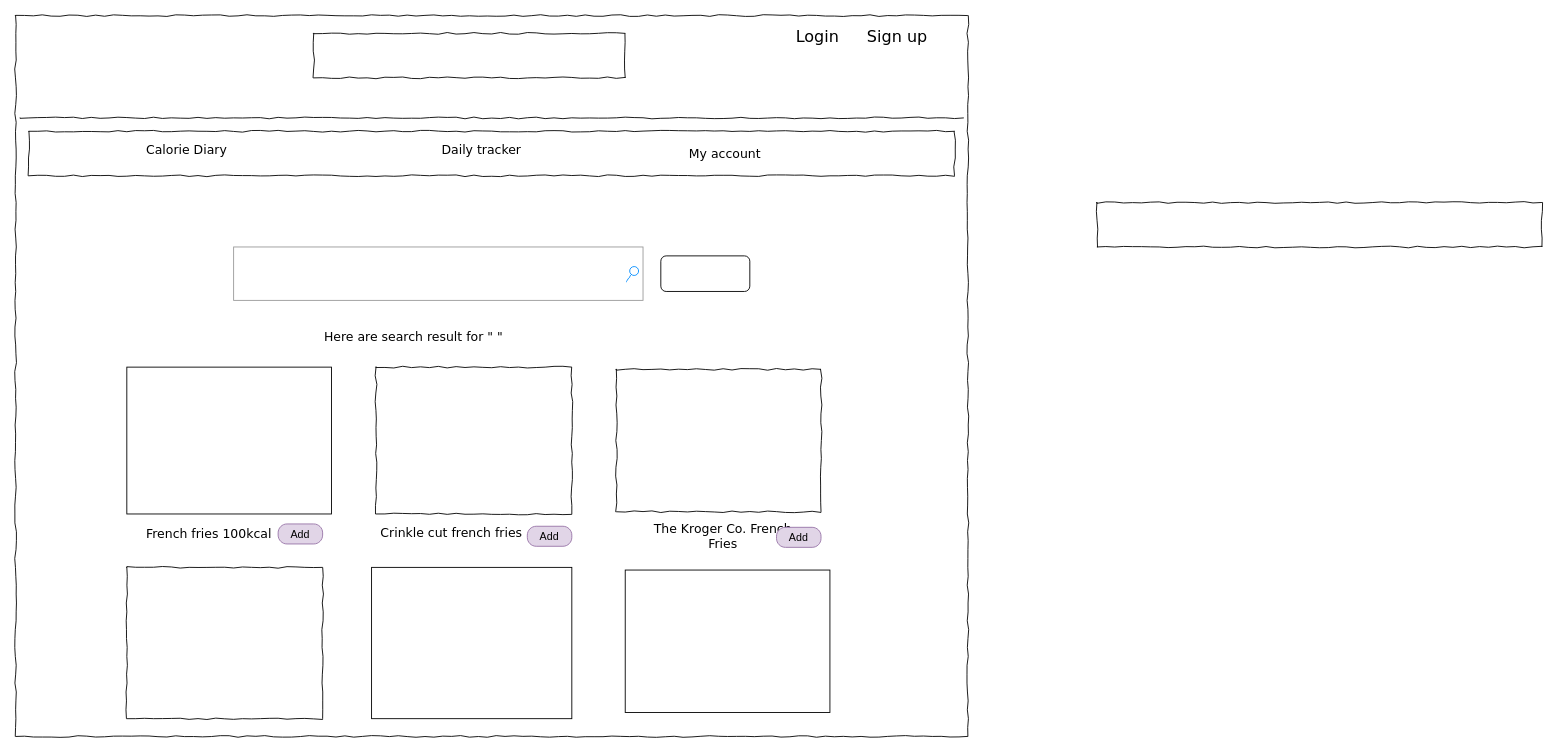
Image size: 1558x752. Some labels were removed from this diagram. The shapes that lost their labels are listed below. From the top down, each one's box as (x1, y1, x2, y2) in pixels, then its label:
(313, 32, 625, 78): Track your calories
(660, 255, 750, 291): Search
